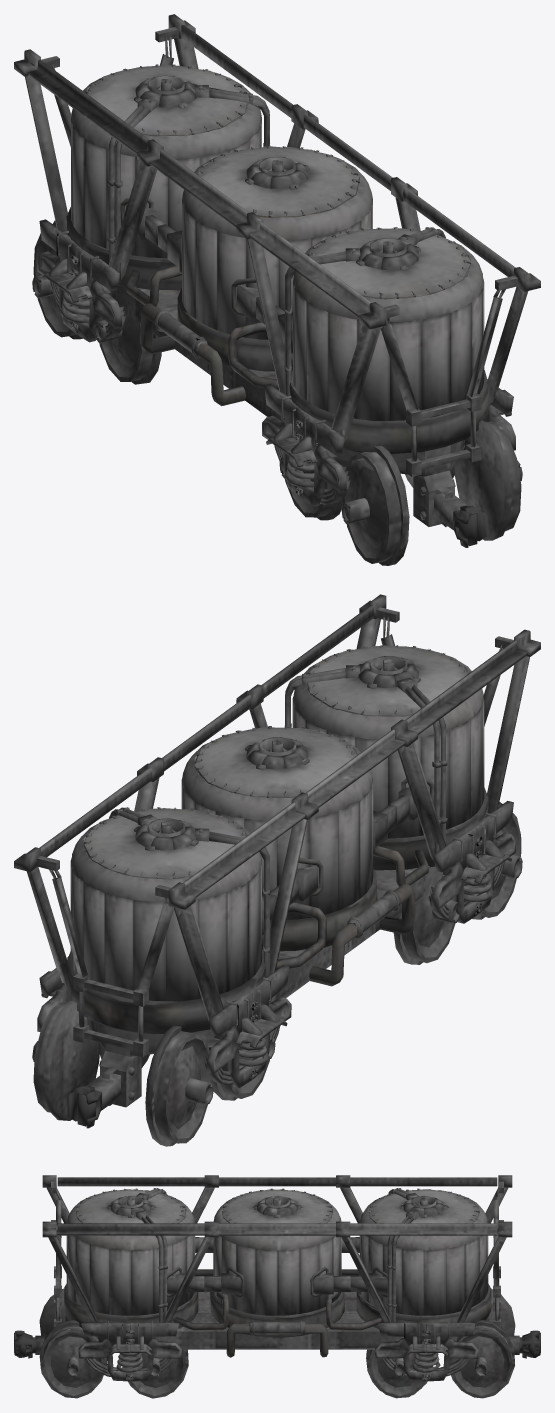
File: fluid-wagon.glb
The picture shows the model from 3 angles, top to bottom: view 1: azimuth 30°, elevation 25°; view 2: azimuth 150°, elevation 25°; view 3: azimuth 270°, elevation 25°; orthographic projection. The views are drawn at different scales.
Parts seen in each view (by area): view 1: body, anim_wheel_rail.002, anim_wheel_rail.003, anim_wheel_rail.001, anim_wheel_rail; view 2: body, anim_wheel_rail.001, anim_wheel_rail, anim_wheel_rail.002, anim_wheel_rail.003; view 3: body, anim_wheel_rail.002, anim_wheel_rail.001, anim_wheel_rail.003, anim_wheel_rail.
Part boxes in pixels (x1,y1,x2,y2): body: [14, 14, 540, 547]; anim_wheel_rail.002: [341, 420, 522, 565]; anim_wheel_rail.003: [94, 313, 161, 384]; anim_wheel_rail.001: [32, 220, 89, 339]; anim_wheel_rail: [279, 457, 454, 520]; body: [14, 594, 540, 1128]; anim_wheel_rail.001: [32, 1000, 213, 1146]; anim_wheel_rail: [393, 893, 459, 964]; anim_wheel_rail.002: [464, 802, 522, 919]; anim_wheel_rail.003: [99, 1037, 275, 1100]; body: [14, 1175, 540, 1381]; anim_wheel_rail.002: [39, 1288, 107, 1398]; anim_wheel_rail.001: [449, 1288, 515, 1398]; anim_wheel_rail.003: [366, 1349, 433, 1398]; anim_wheel_rail: [122, 1349, 188, 1398].
Size of the model in its own units: 2 by 2.44 by 6.46.
Materials: 1 (1 with a texture image).
